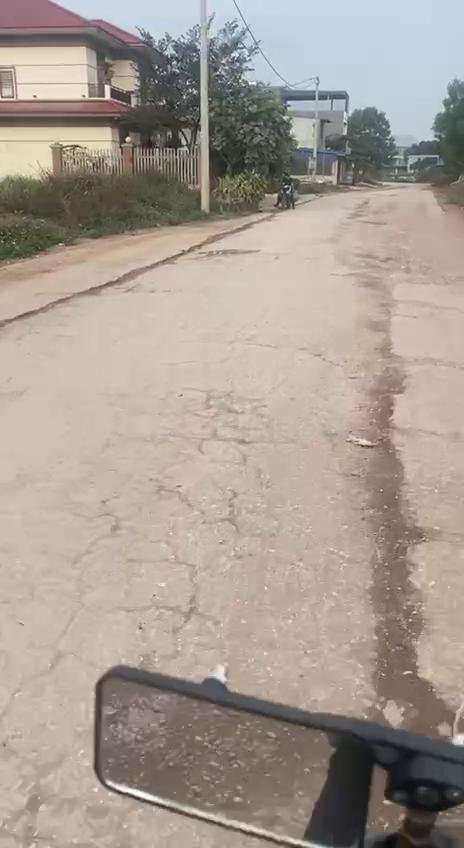pothole: (374, 394, 464, 736)
